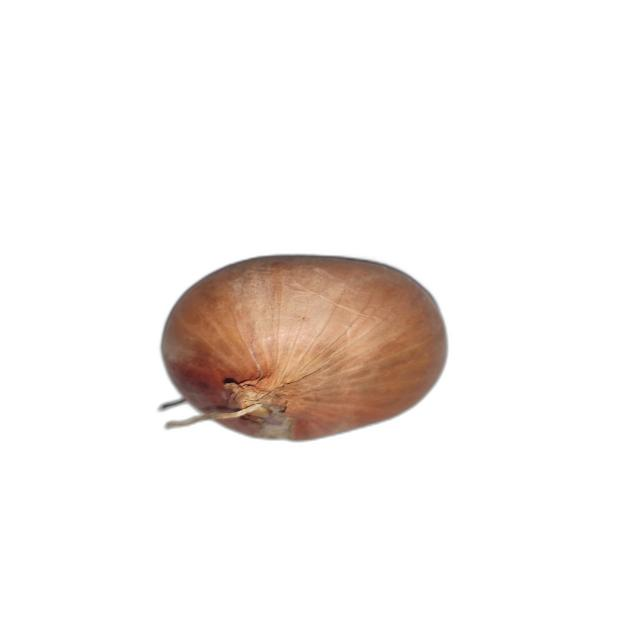onion: (157, 253, 451, 443)
